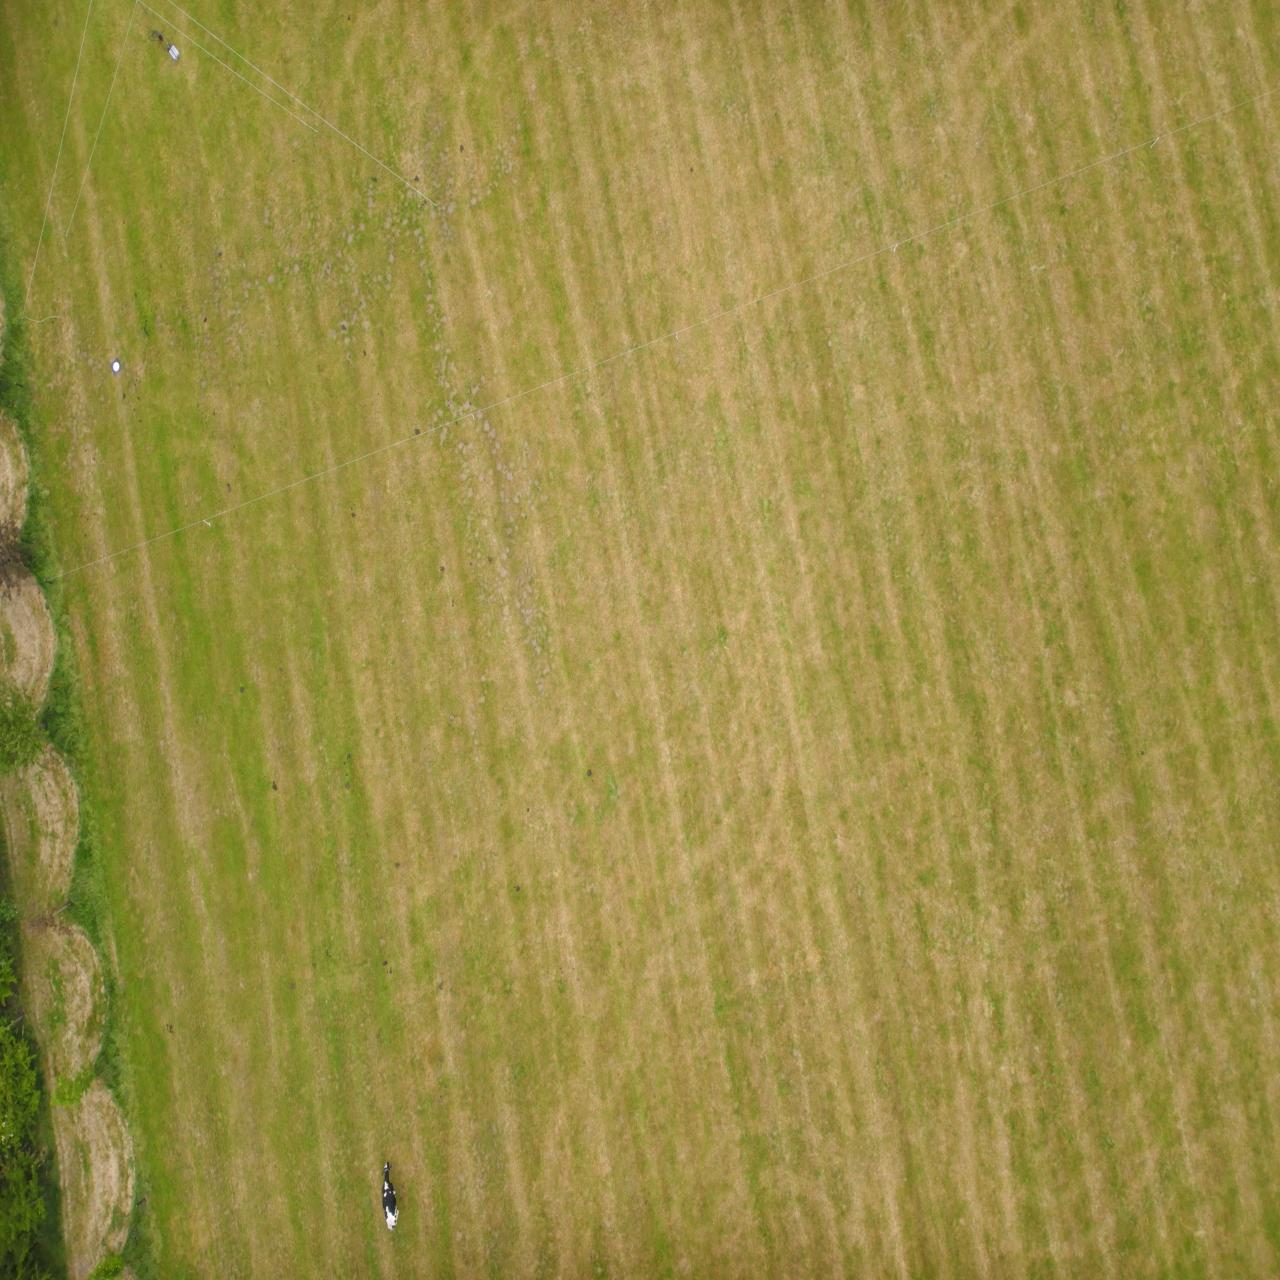cow: (880, 49, 898, 118)
